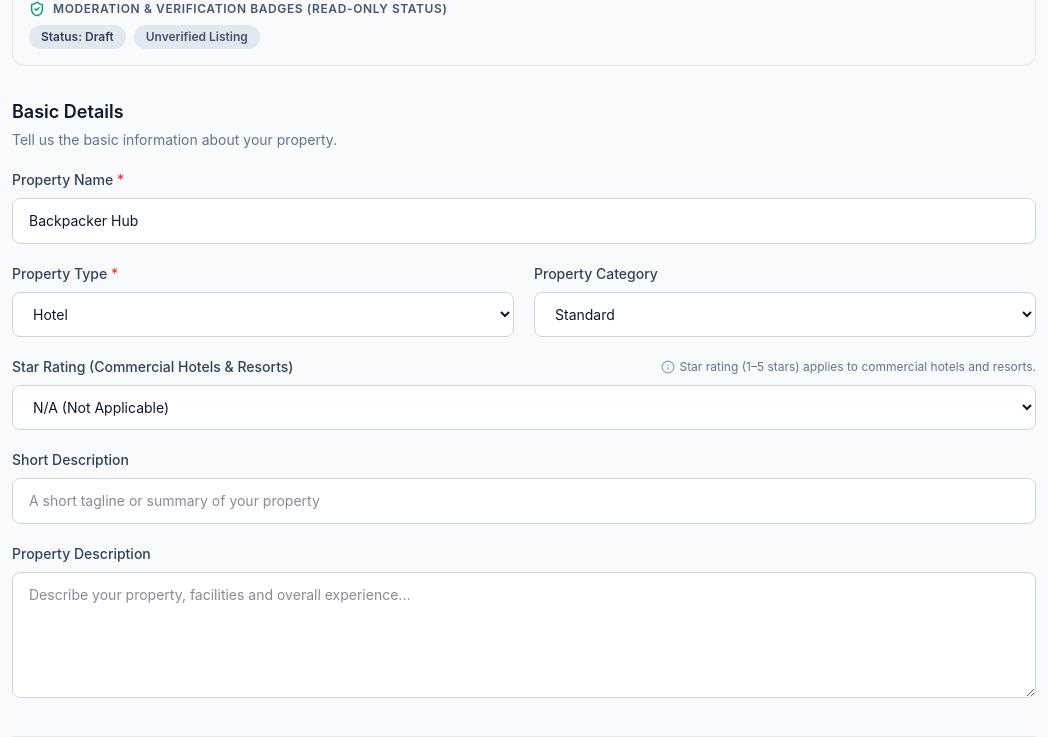
Test: Property Type Matrix & State Reset Comprehensive Suite › Property Type State Reset Transitions › resets price display to 'Per Person' when changing property type from Hotel to Hostel
Select "Hostel" in the dropdown labelled "Property Type *" at (263, 314), box [12,292,514,337]
(page scrolled)
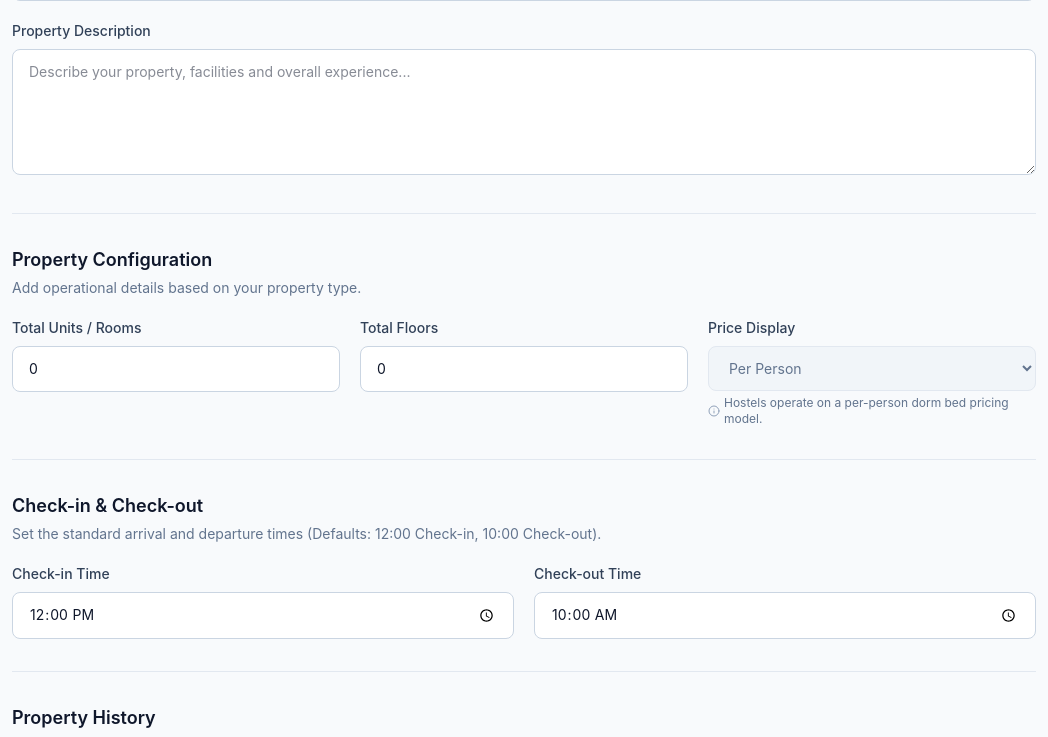
Expected: the dropdown labelled "Price Display" is disabled, [708,346,1036,391]
Expected: the dropdown labelled "Price Display" shows "Per Person", [708,346,1036,391]
